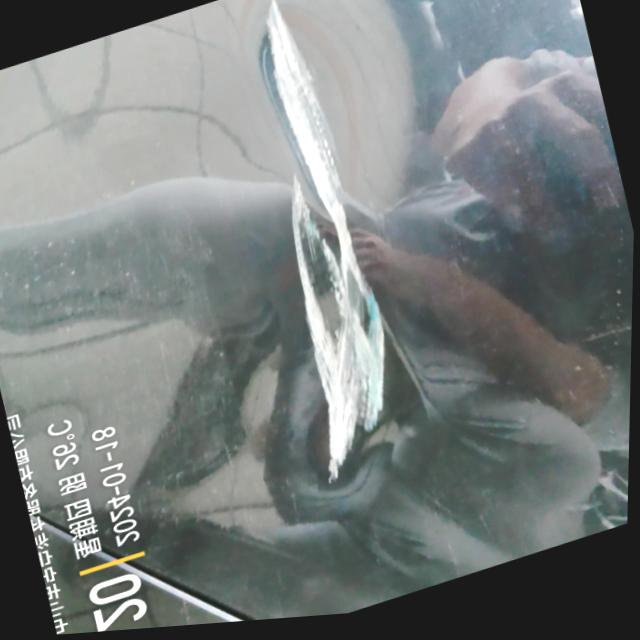Scratch: (259, 0, 383, 483)
